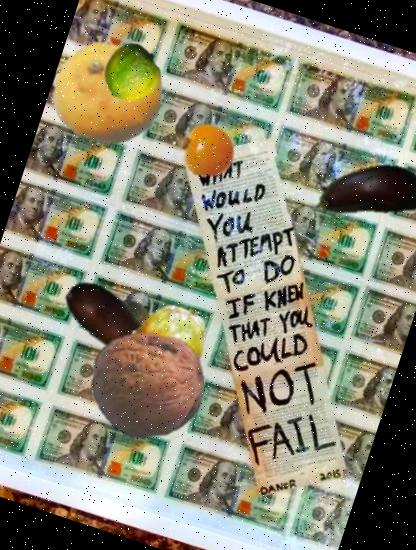Beetroot: (88, 289, 164, 365)
Cactus: (87, 285, 232, 430)
Eggplant: (36, 246, 199, 410), (298, 116, 416, 261)
Lemon: (37, 25, 176, 164)
Limes: (94, 37, 168, 111)
Physalis: (170, 114, 242, 186)
Walnut: (76, 313, 220, 457)
